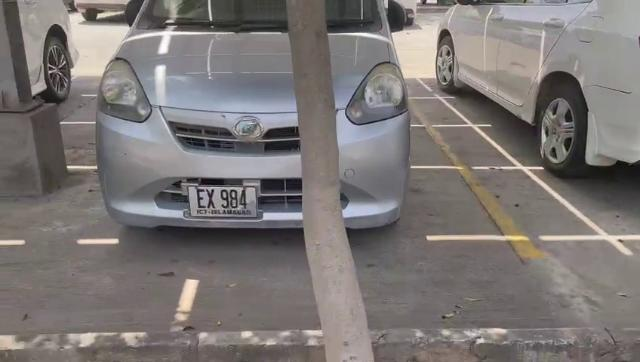plate: (185, 180, 265, 221)
